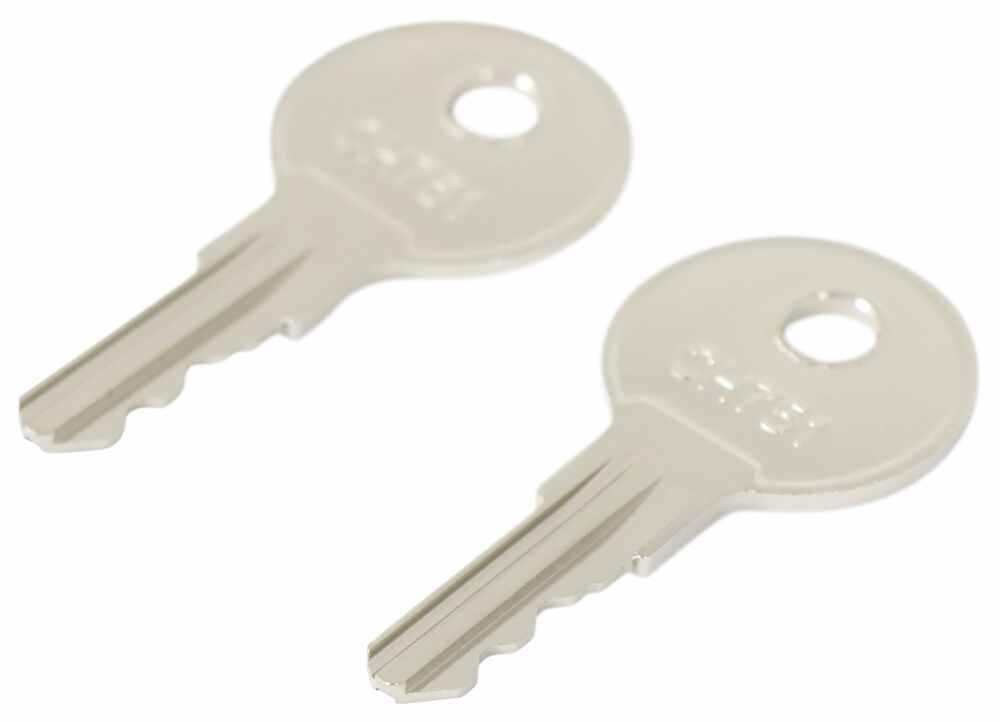key: (364, 237, 979, 706), (17, 24, 638, 456)
